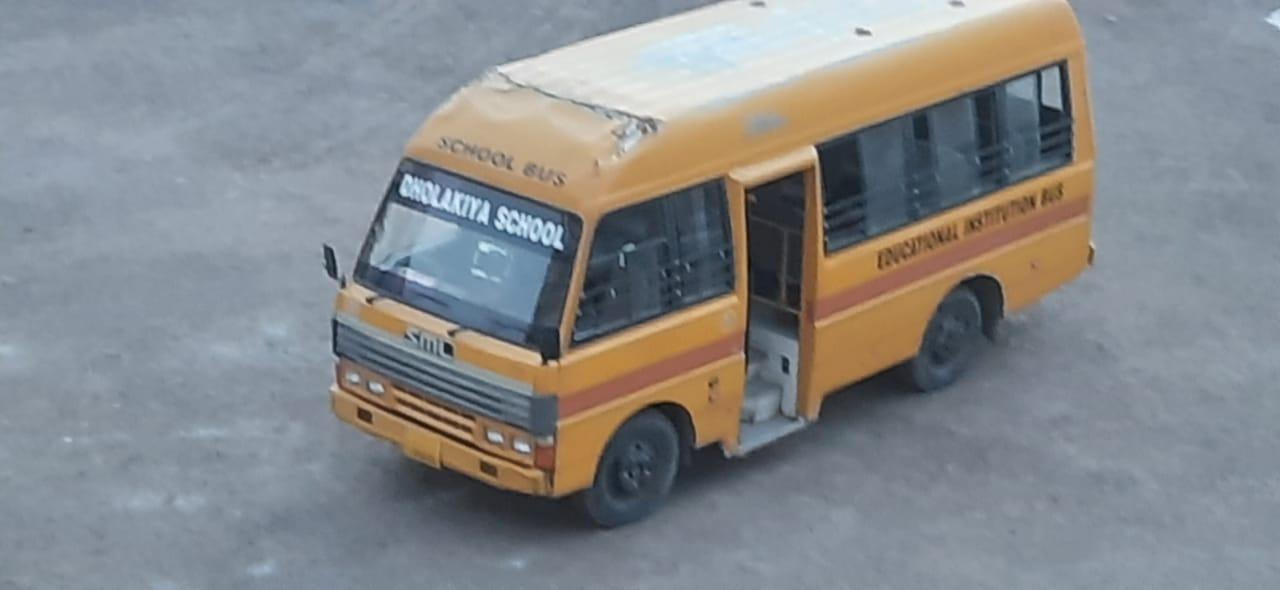Bus: (323, 20, 1123, 524)
